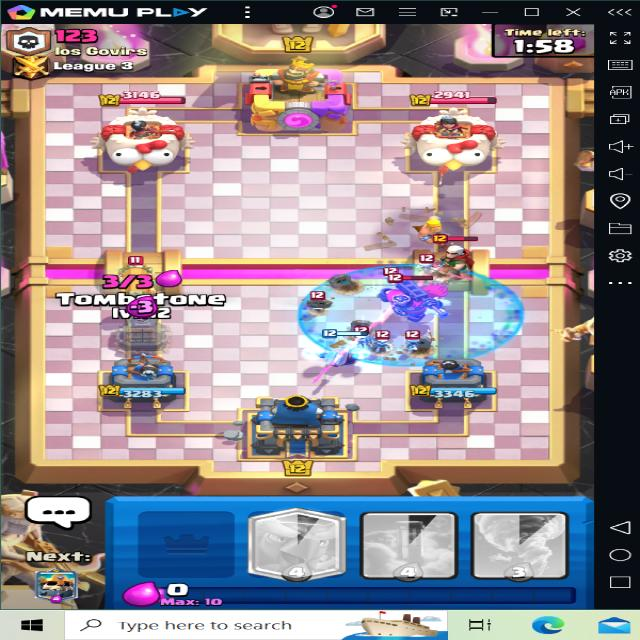Battleram: (104, 264, 183, 304)
Marcher: (439, 238, 498, 285)
Skellykingability: (299, 265, 522, 363)
skellyking: (372, 276, 457, 330)
